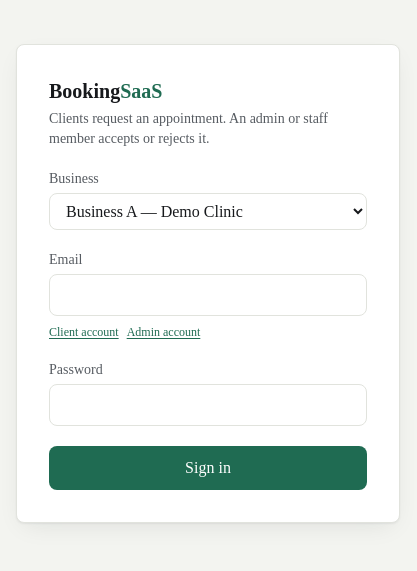
Test: /login › shows the API error message and stays on the page when credentials are rejected
The image size is (417, 571).
In the field labelled "Email": (208, 294) x1=49 y1=274 x2=367 y2=316, type "cliente@tenant.dev"
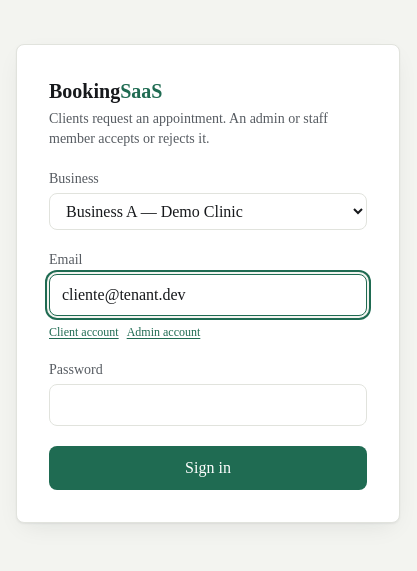
In the password field labelled "Password": (208, 404) x1=49 y1=384 x2=367 y2=426, type "wrong-password"
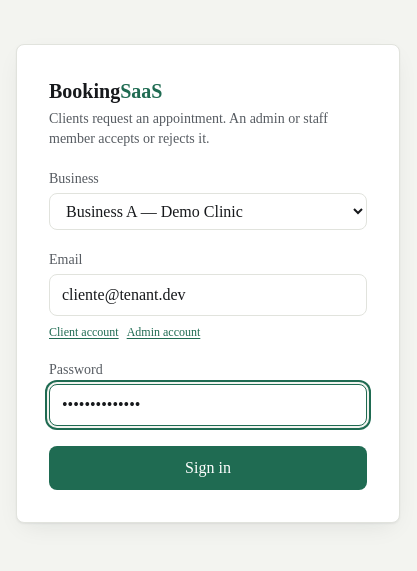
Click the button "Sign in": (208, 468) x1=49 y1=446 x2=367 y2=490
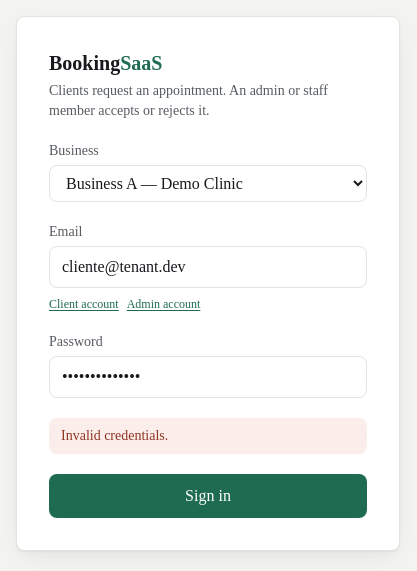
Expected: the button "Sign in" is enabled, x1=49 y1=474 x2=367 y2=518
Now the text "Invalid credentials." is shown, box x1=49 y1=418 x2=367 y2=454
